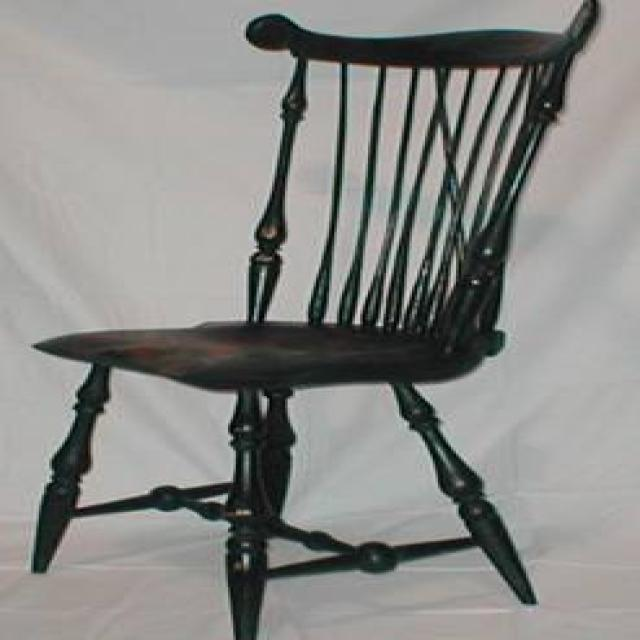chair: (26, 0, 598, 640)
